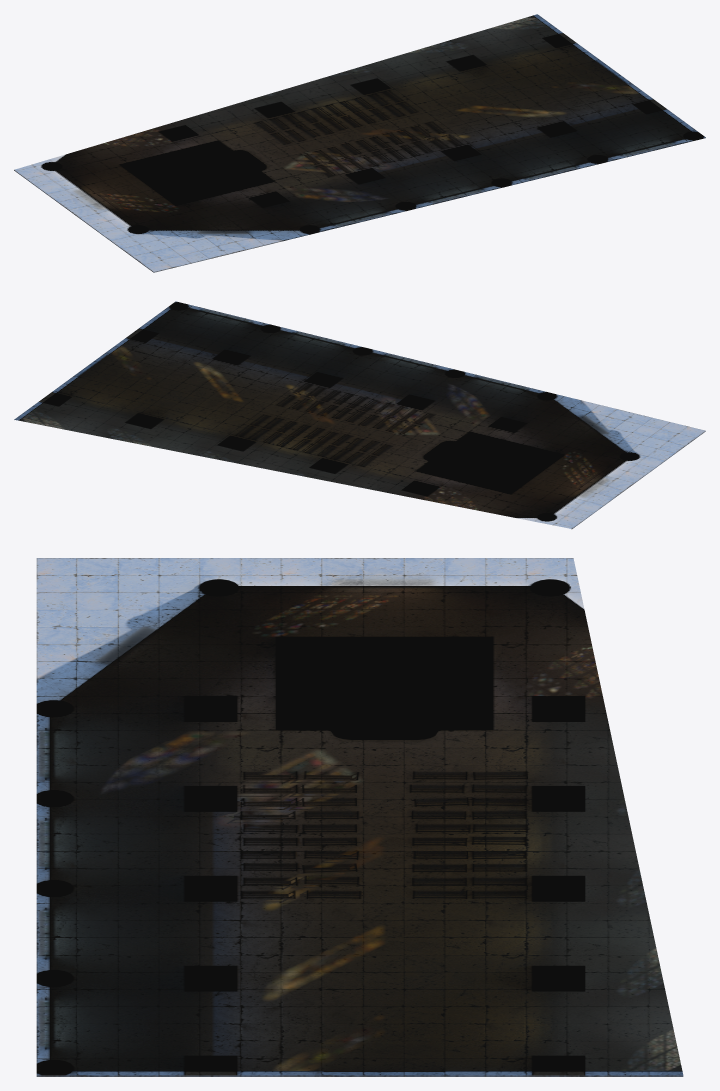
Rendered from Flooring.obj.
3 views of the same model, one above another, from view 1: azimuth 30°, elevation 25°; view 2: azimuth 150°, elevation 25°; view 3: azimuth 270°, elevation 25° (orthographic). The views are drawn at different scales.
Parts seen in each view (by area): view 1: Circle.051_0.002; view 2: Circle.051_0.002; view 3: Circle.051_0.002.
Boxes of the visible parts, box(x1,y1,x2,y2) form: Circle.051_0.002: box(14, 14, 705, 272); Circle.051_0.002: box(14, 301, 705, 529); Circle.051_0.002: box(36, 558, 683, 1076).
Size of the model in its own units: 39.55 by 0.044 by 20.89.
